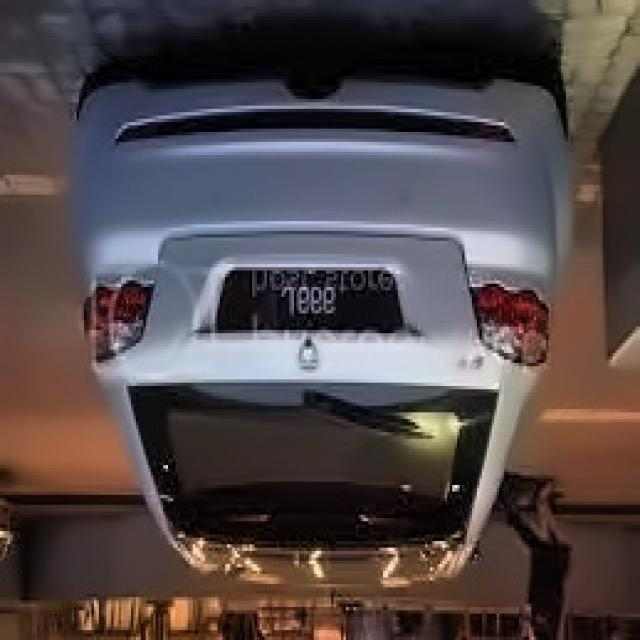car-plate: (212, 265, 408, 335)
